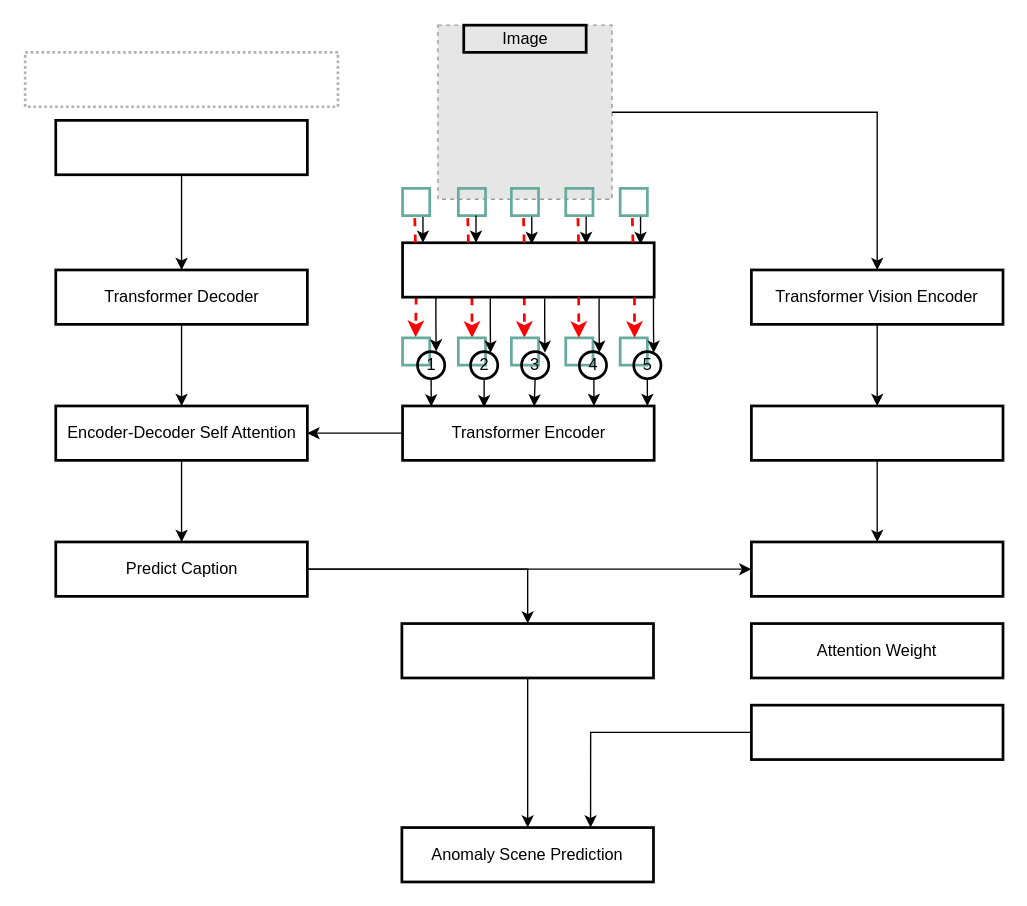
The diagram is 1027 pixels wide and 906 high, and some of its shapes have lost their labels. Grey dashed boxes stand in for pictures. The shapes that lost their labels are listed below. From the top down, each one's centre as x and y in pixels, then its label:
[181,78]: Image: "image_name1.jpg" Caption: "Land is moving from the forest"
[181,146]: Text Caption
[528,269]: Linear Projection of Flattened
[876,432]: Semantic Image
[876,568]: Concatenate Layer
[527,650]: BERT Classification
[876,731]: Fully Connection
